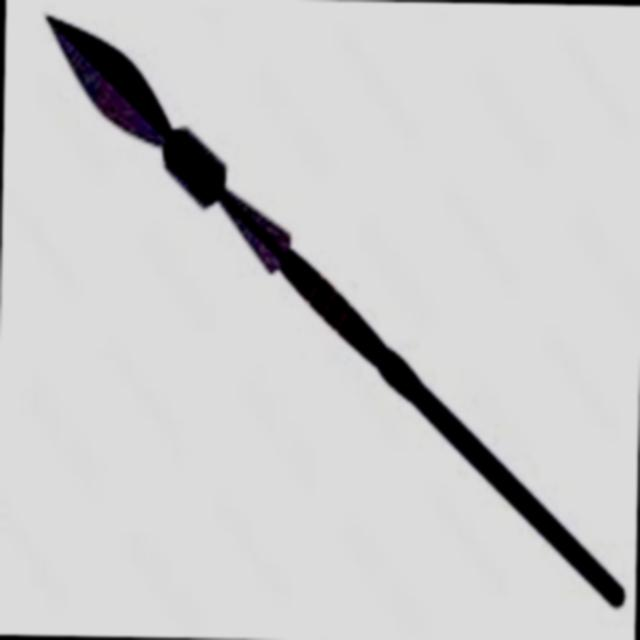spear: (26, 0, 635, 626)
